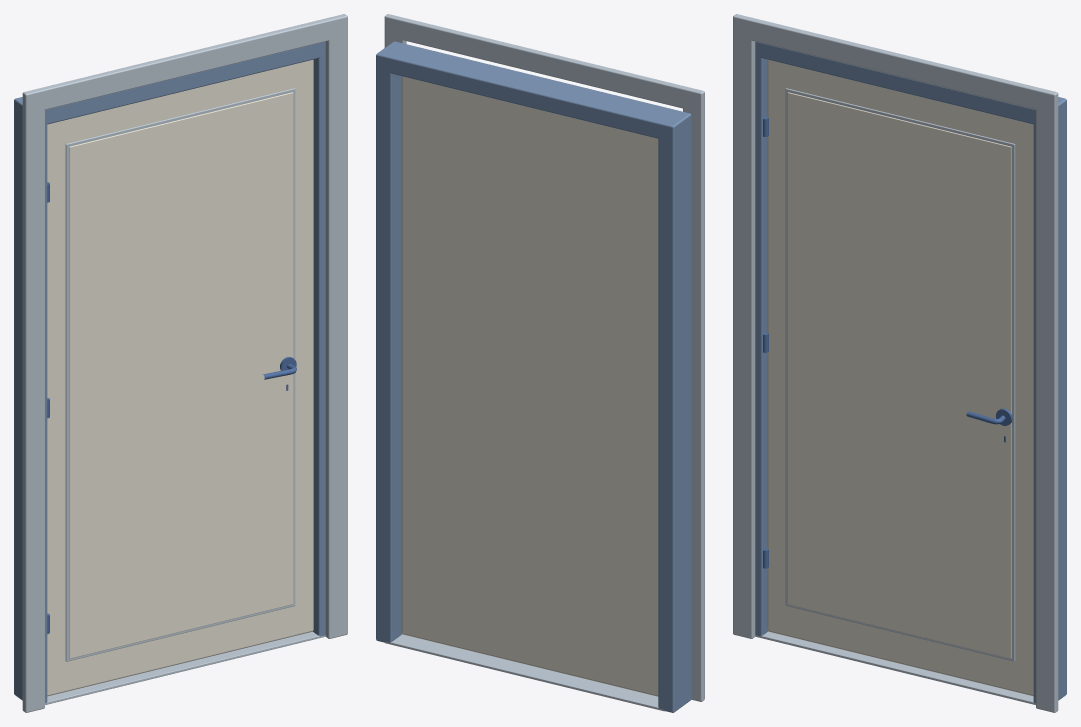
The model's file is door.glb.
The picture shows the model from 3 angles, left to right: view 1: azimuth 30°, elevation 25°; view 2: azimuth 150°, elevation 25°; view 3: azimuth 330°, elevation 25°; orthographic projection.
Visible parts, largest first — view 1: inset-cream-face, door-leaf, architrave--1, architrave-1, top-architrave, jamb-1, jamb--1, recessed-face-panel, head-jamb, threshold; view 2: door-leaf, jamb--1, jamb-1, head-jamb, architrave--1, top-architrave, threshold; view 3: inset-cream-face, door-leaf, architrave-1, architrave--1, top-architrave, jamb--1, jamb-1, recessed-face-panel, head-jamb, threshold.
Boxes of the visible parts, left/top/right/bottom form: inset-cream-face: left=69, top=92, right=293, bottom=658; door-leaf: left=47, top=59, right=313, bottom=696; architrave--1: left=22, top=103, right=44, bottom=712; architrave-1: left=325, top=28, right=347, bottom=638; top-architrave: left=22, top=14, right=347, bottom=112; jamb-1: left=313, top=41, right=325, bottom=636; jamb--1: left=14, top=97, right=47, bottom=703; recessed-face-panel: left=65, top=88, right=295, bottom=661; head-jamb: left=14, top=43, right=320, bottom=124; threshold: left=45, top=631, right=325, bottom=704; door-leaf: left=401, top=76, right=658, bottom=696; jamb--1: left=658, top=110, right=691, bottom=712; jamb-1: left=376, top=41, right=406, bottom=642; head-jamb: left=376, top=41, right=690, bottom=140; architrave--1: left=683, top=101, right=704, bottom=701; top-architrave: left=384, top=14, right=704, bottom=111; threshold: left=384, top=634, right=664, bottom=711; inset-cream-face: left=787, top=92, right=1011, bottom=658; door-leaf: left=767, top=59, right=1033, bottom=696; architrave-1: left=1036, top=103, right=1058, bottom=712; architrave--1: left=733, top=28, right=755, bottom=638; top-architrave: left=733, top=14, right=1058, bottom=113; jamb--1: left=755, top=41, right=767, bottom=636; jamb-1: left=1033, top=97, right=1066, bottom=703; recessed-face-panel: left=785, top=88, right=1015, bottom=661; head-jamb: left=755, top=43, right=1066, bottom=124; threshold: left=755, top=631, right=1035, bottom=704.
Size of the model in its own units: 1.8 by 3.3 by 0.2508.
